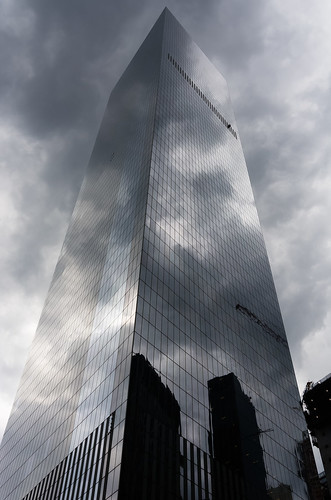high: (3, 4, 331, 500)
